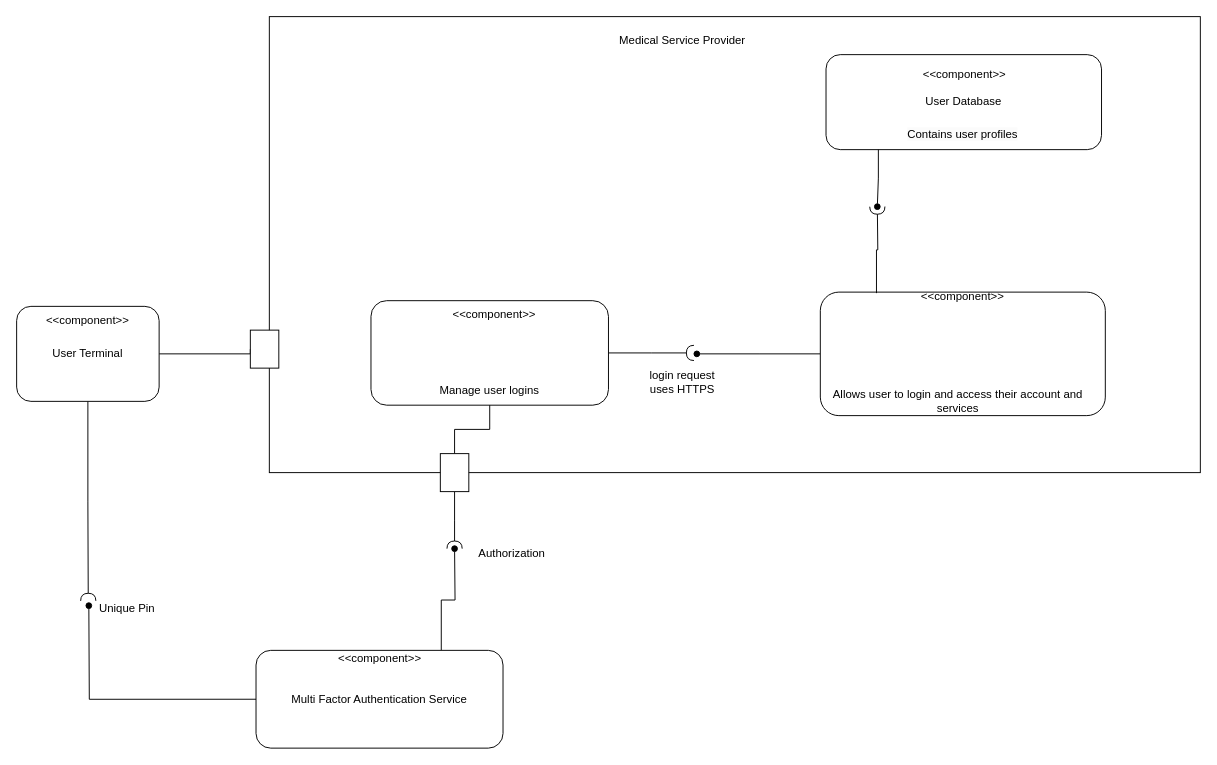
This 1217x765 diagram has some shape labels left out. Each missing label, with the box of its shape:
Login Controller: (370, 300, 608, 405)
Medical Service Provider UI: (819, 291, 1105, 416)
